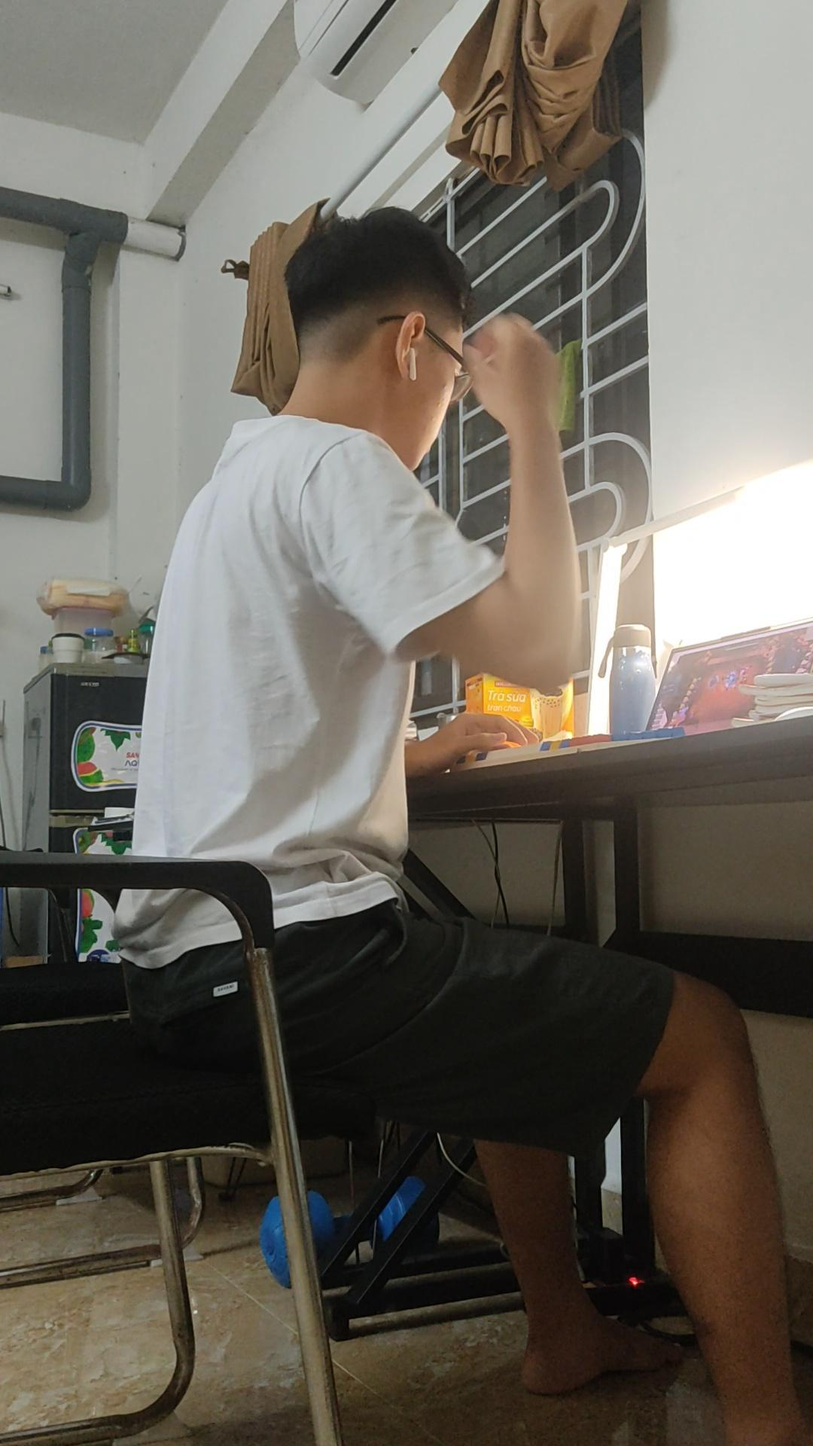GoodPosture: (133, 208, 812, 1445)
